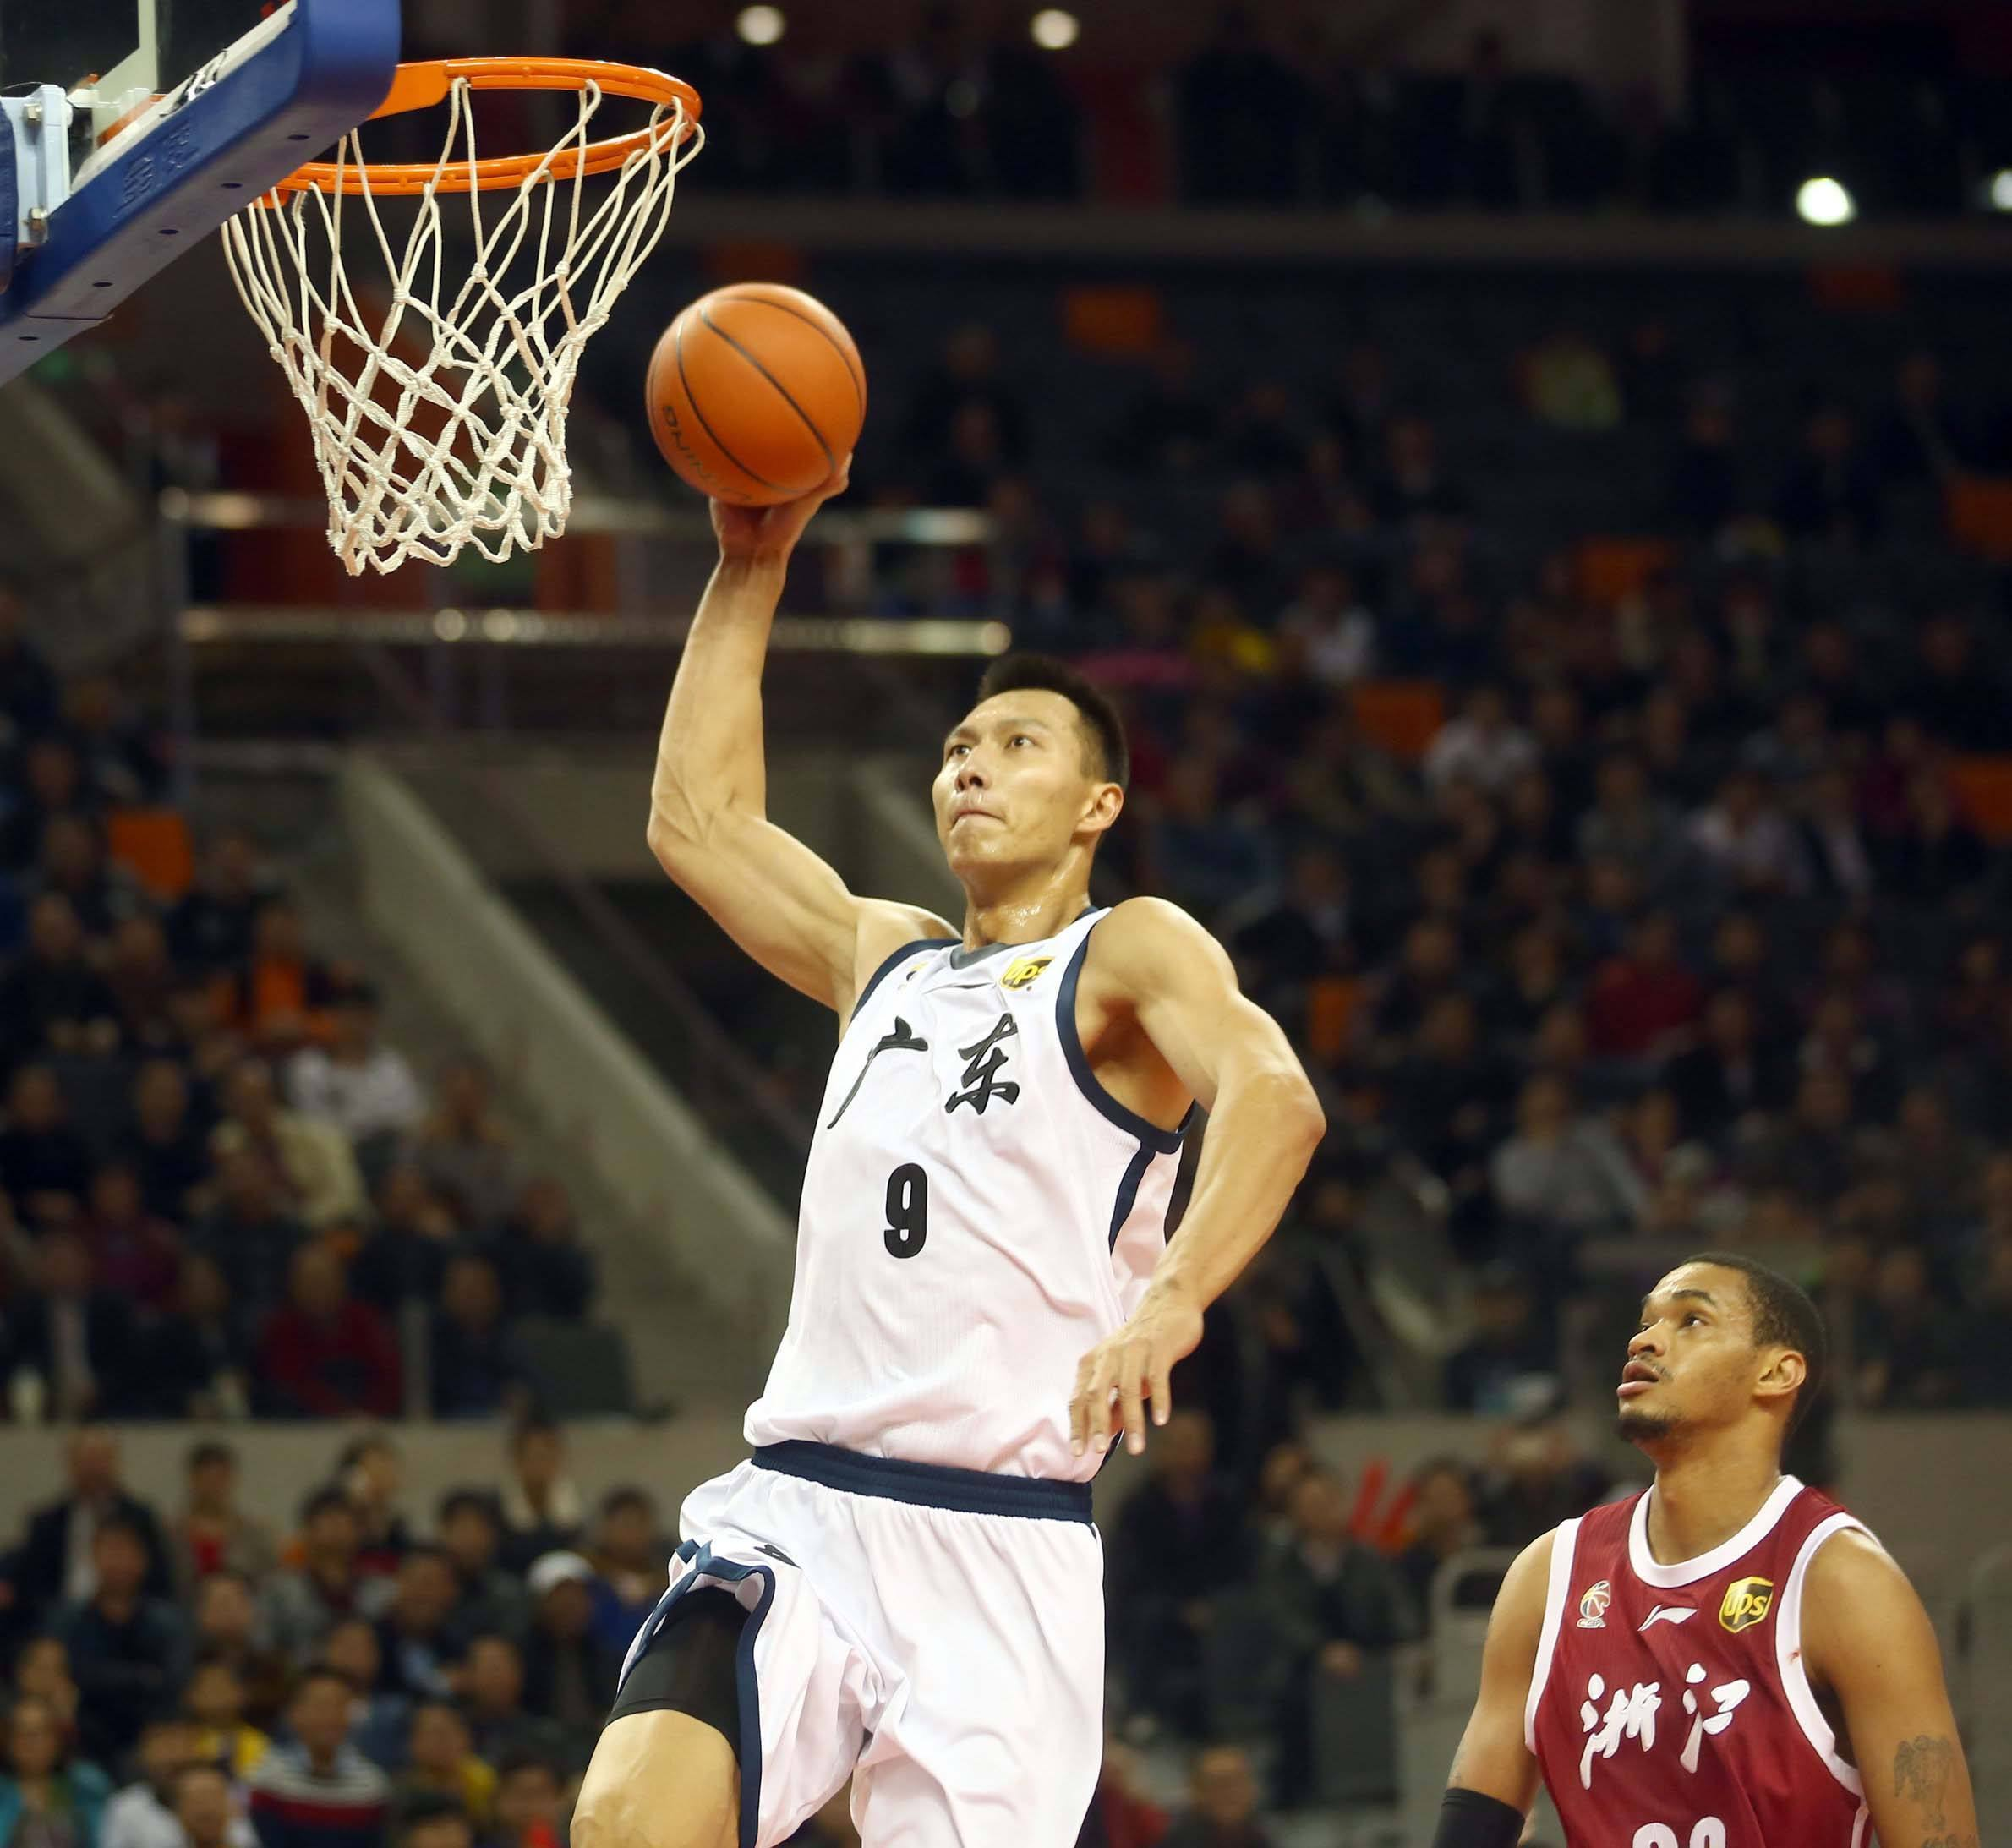ball: (645, 281, 868, 505)
